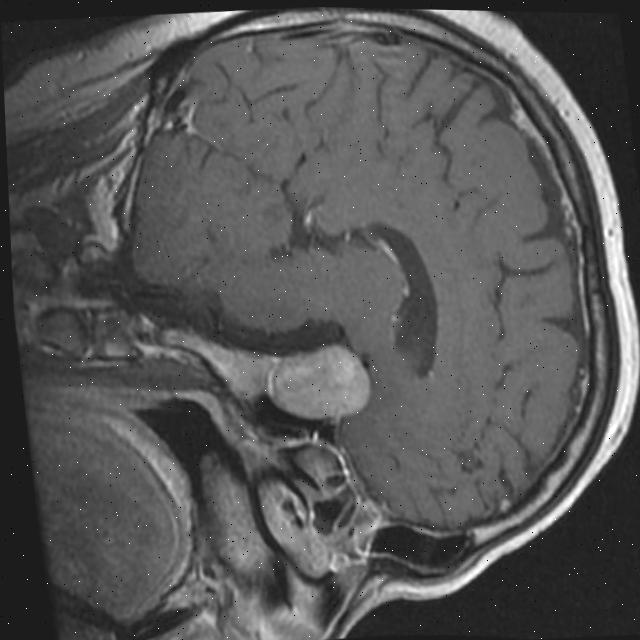Pituitary: (262, 340, 373, 424)
